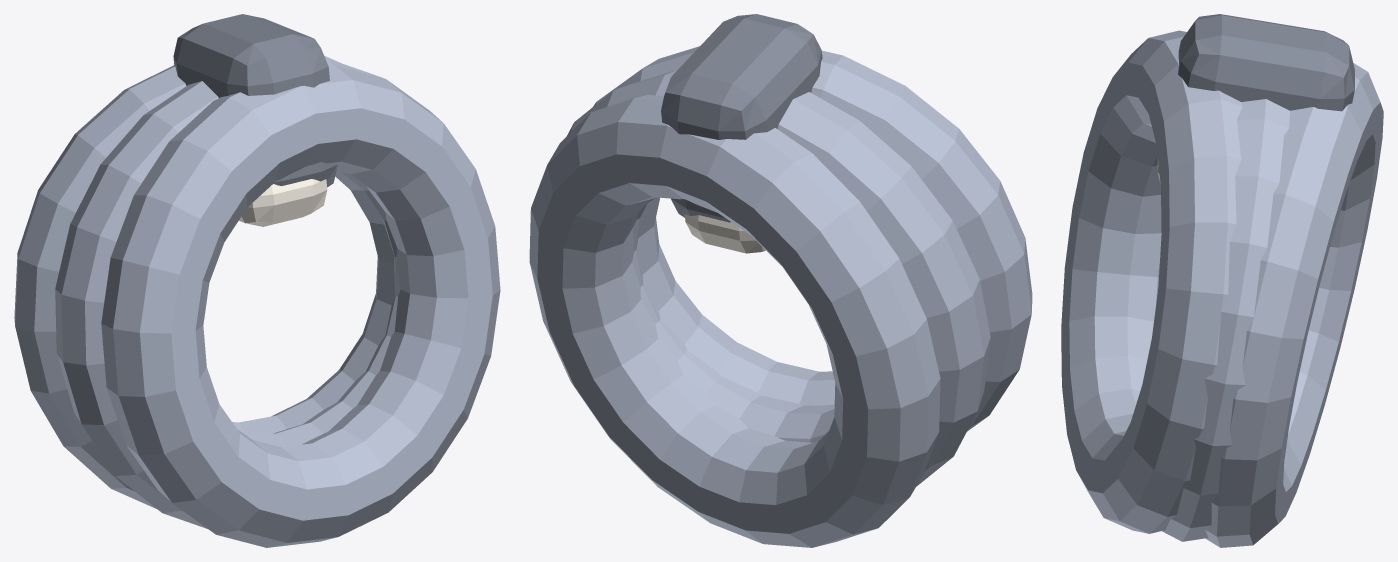
The model's file is rope.glb.
3 renders of one model, left to right at view 1: azimuth 30°, elevation 25°; view 2: azimuth 150°, elevation 25°; view 3: azimuth 270°, elevation 25°, orthographic. The views are drawn at different scales.
Visible parts, largest first — view 1: rope; view 2: rope; view 3: rope.
Part boxes in pixels (x1=…): rope: x1=14, y1=14, x2=500, y2=547; rope: x1=529, y1=14, x2=1032, y2=547; rope: x1=1061, y1=14, x2=1383, y2=547.
Size of the model in its own units: 0.8582 by 0.9368 by 0.5466.
